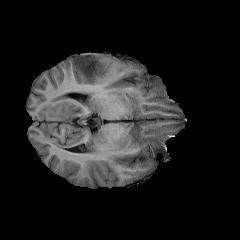glioma: (72, 56, 108, 81)
